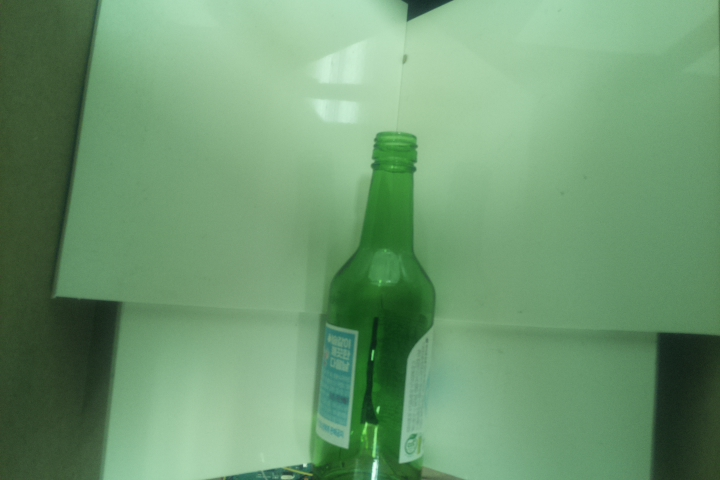soju: (309, 127, 439, 480)
